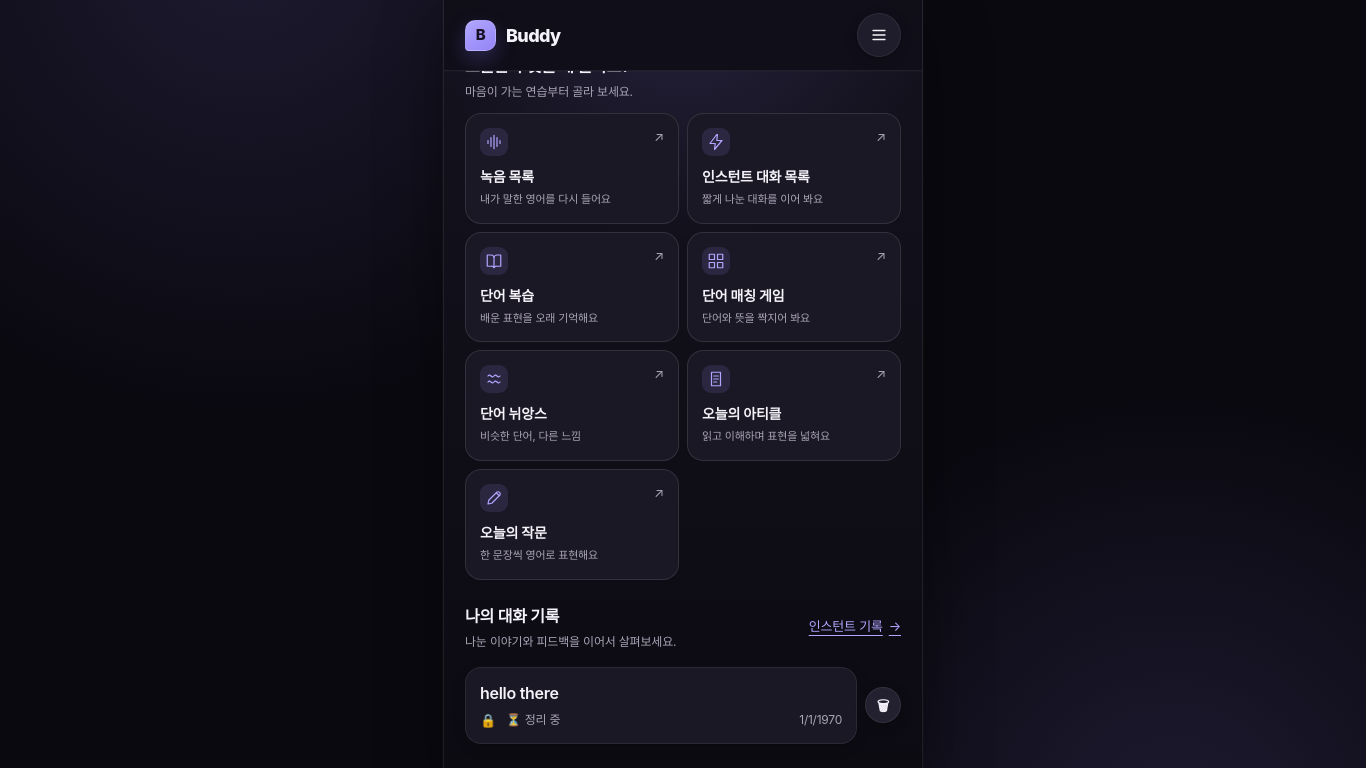
Test: room list › reopening a room whose study summary is still pending shows a loading state, then the summary once it lands
(page scrolled)
Click the text "hello there" at x=519, y=693, box 480,683 -> 559,703
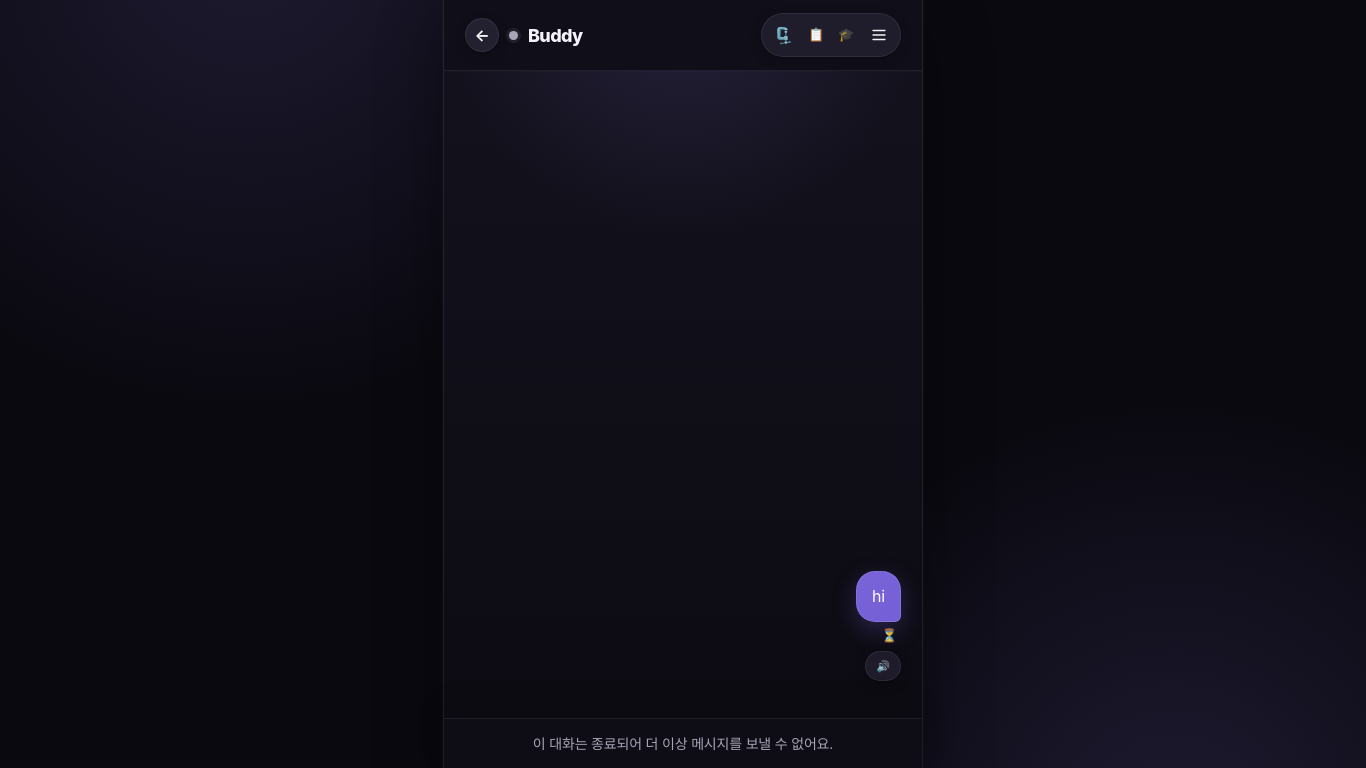
Click the button named "대화 종료" at x=846, y=35, box 832,21 -> 860,49
Wait 4000 ms
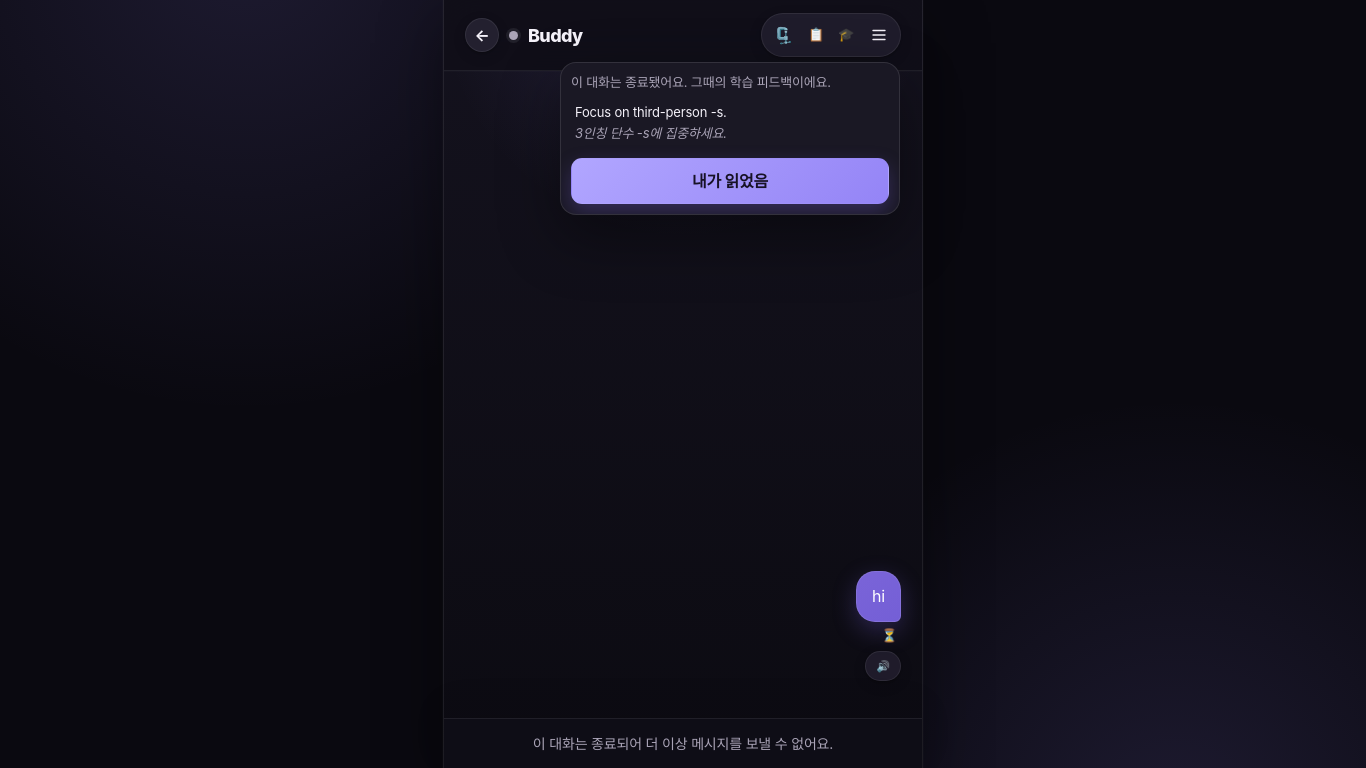
Now the text "3인칭 단수 -s에 집중하세요." is shown, box 575,125 -> 727,141
